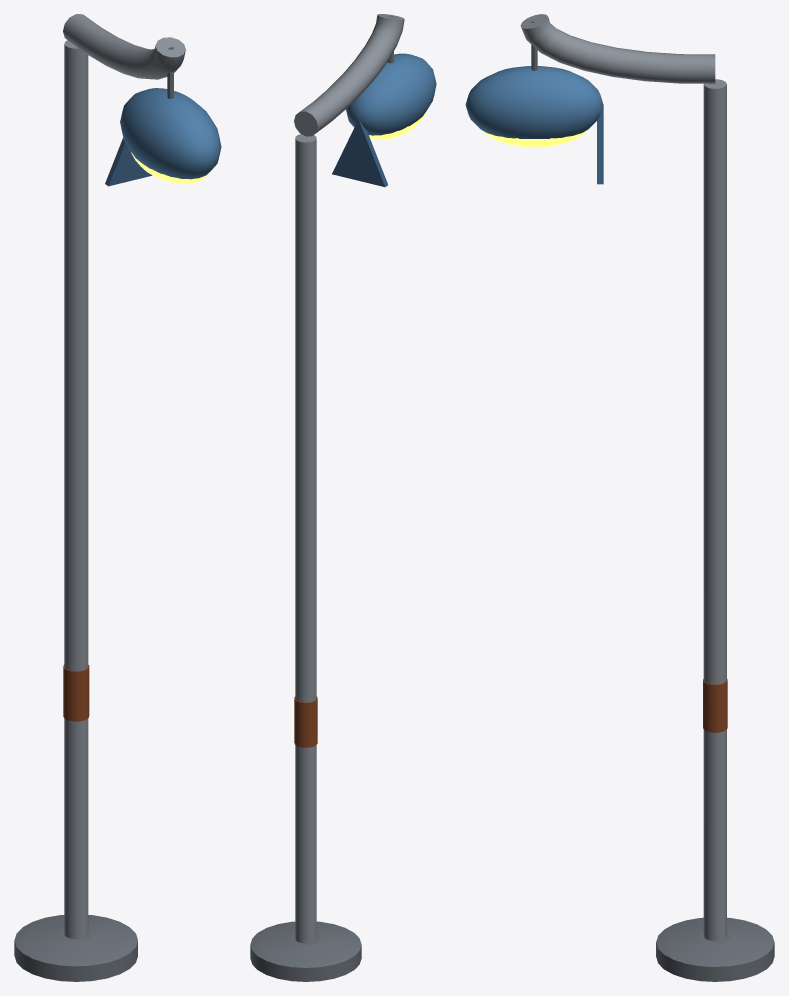
The model's file is zc_street_lamp.mobile-mid.glb.
3 views of the same model, side by side, from view 1: azimuth 30°, elevation 25°; view 2: azimuth 150°, elevation 25°; view 3: azimuth 270°, elevation 25° (orthographic). The views are drawn at different scales.
Parts seen in each view (by area): view 1: zc_street_lamp, lantern; view 2: zc_street_lamp, lantern; view 3: zc_street_lamp, lantern.
Boxes of the visible parts, x1,y1,x2,y2 form: zc_street_lamp: (14,14,185,981); lantern: (105,46,221,186); zc_street_lamp: (250,14,404,981); lantern: (332,15,436,186); zc_street_lamp: (520,14,774,981); lantern: (465,20,603,184).
Bounding box in the file's own units: 0.36 × 3.15 × 0.94.
1 material, 1 textured.
